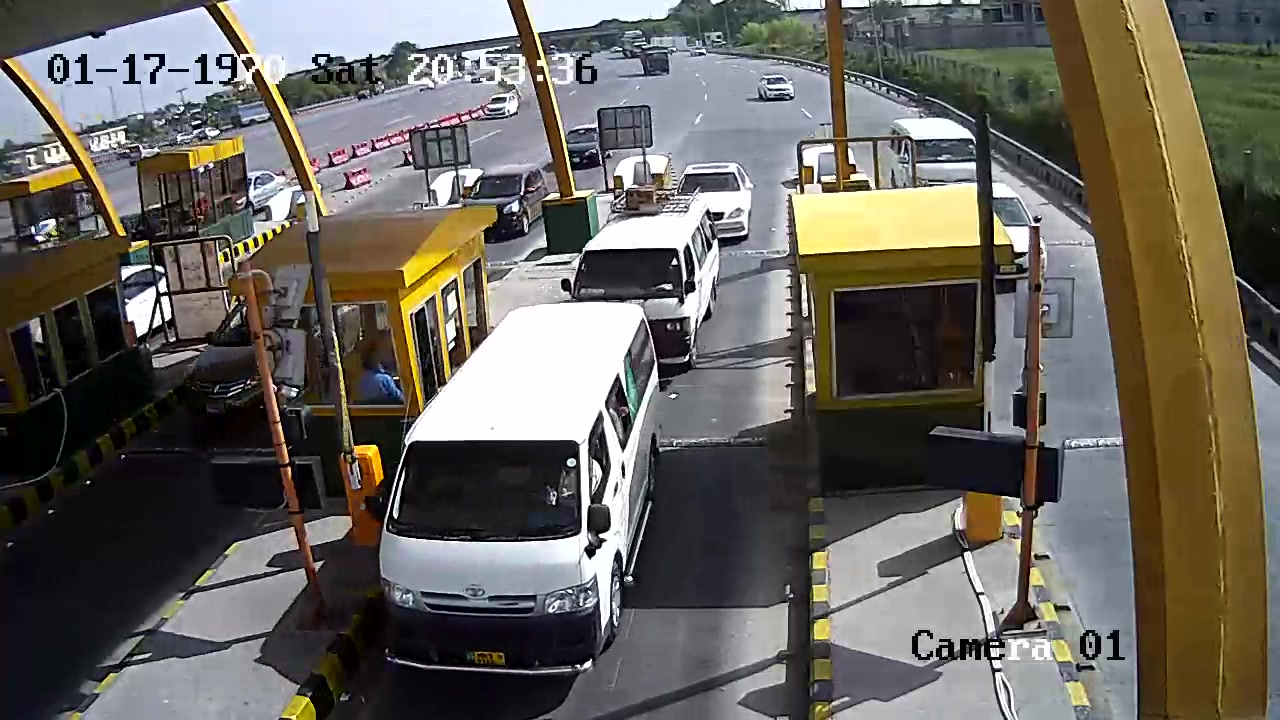F2: (370, 299, 669, 683)
